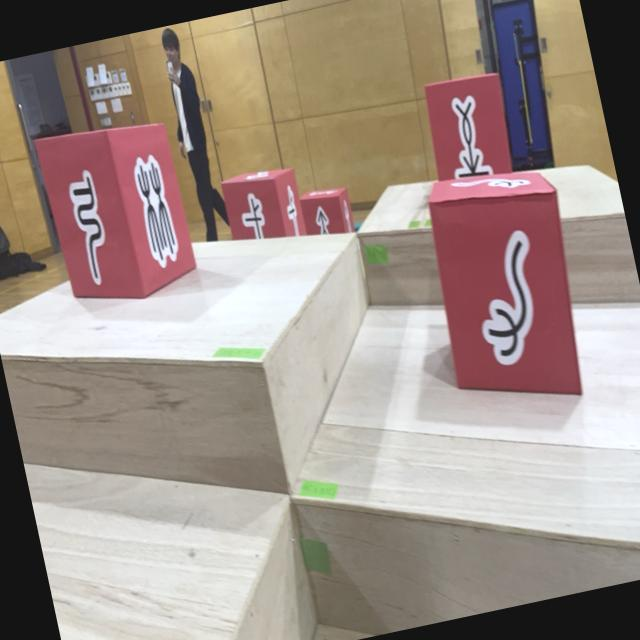12: (310, 200, 333, 237), (340, 198, 352, 230)
13: (462, 226, 552, 372), (449, 167, 532, 202)
2: (130, 151, 184, 272)
4: (62, 166, 116, 287)
7: (438, 92, 494, 182)
9: (236, 188, 269, 241), (282, 182, 302, 235)
fighter: (416, 156, 600, 420), (33, 111, 201, 315), (418, 68, 520, 188), (218, 163, 307, 250), (298, 181, 357, 241)
